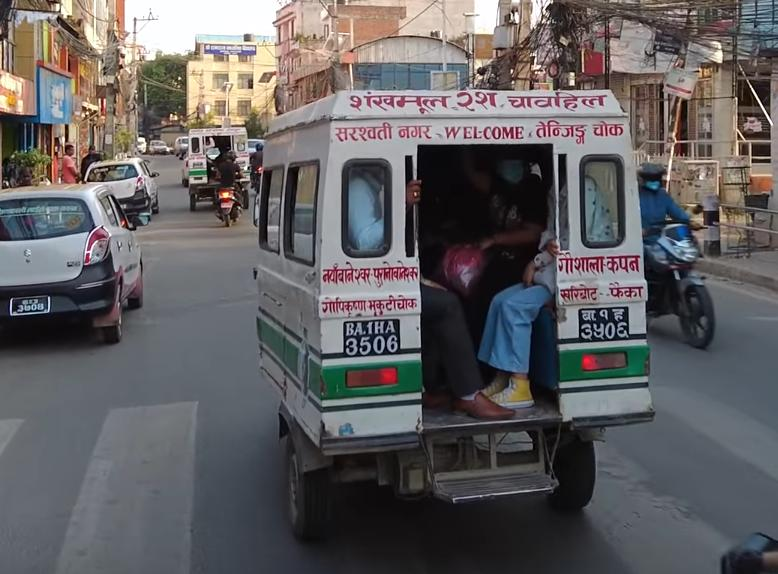bike: (635, 198, 729, 358)
taxi: (0, 179, 158, 353)
tempo: (247, 79, 657, 534), (180, 120, 255, 212)
